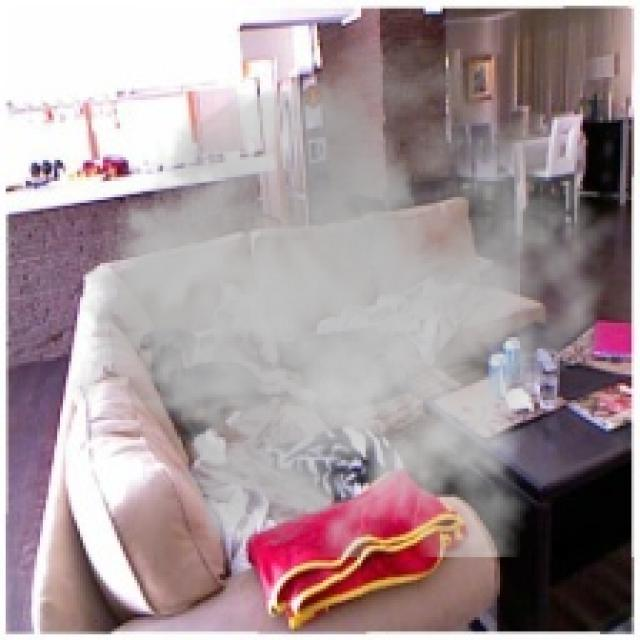smoke: (68, 34, 623, 557)
